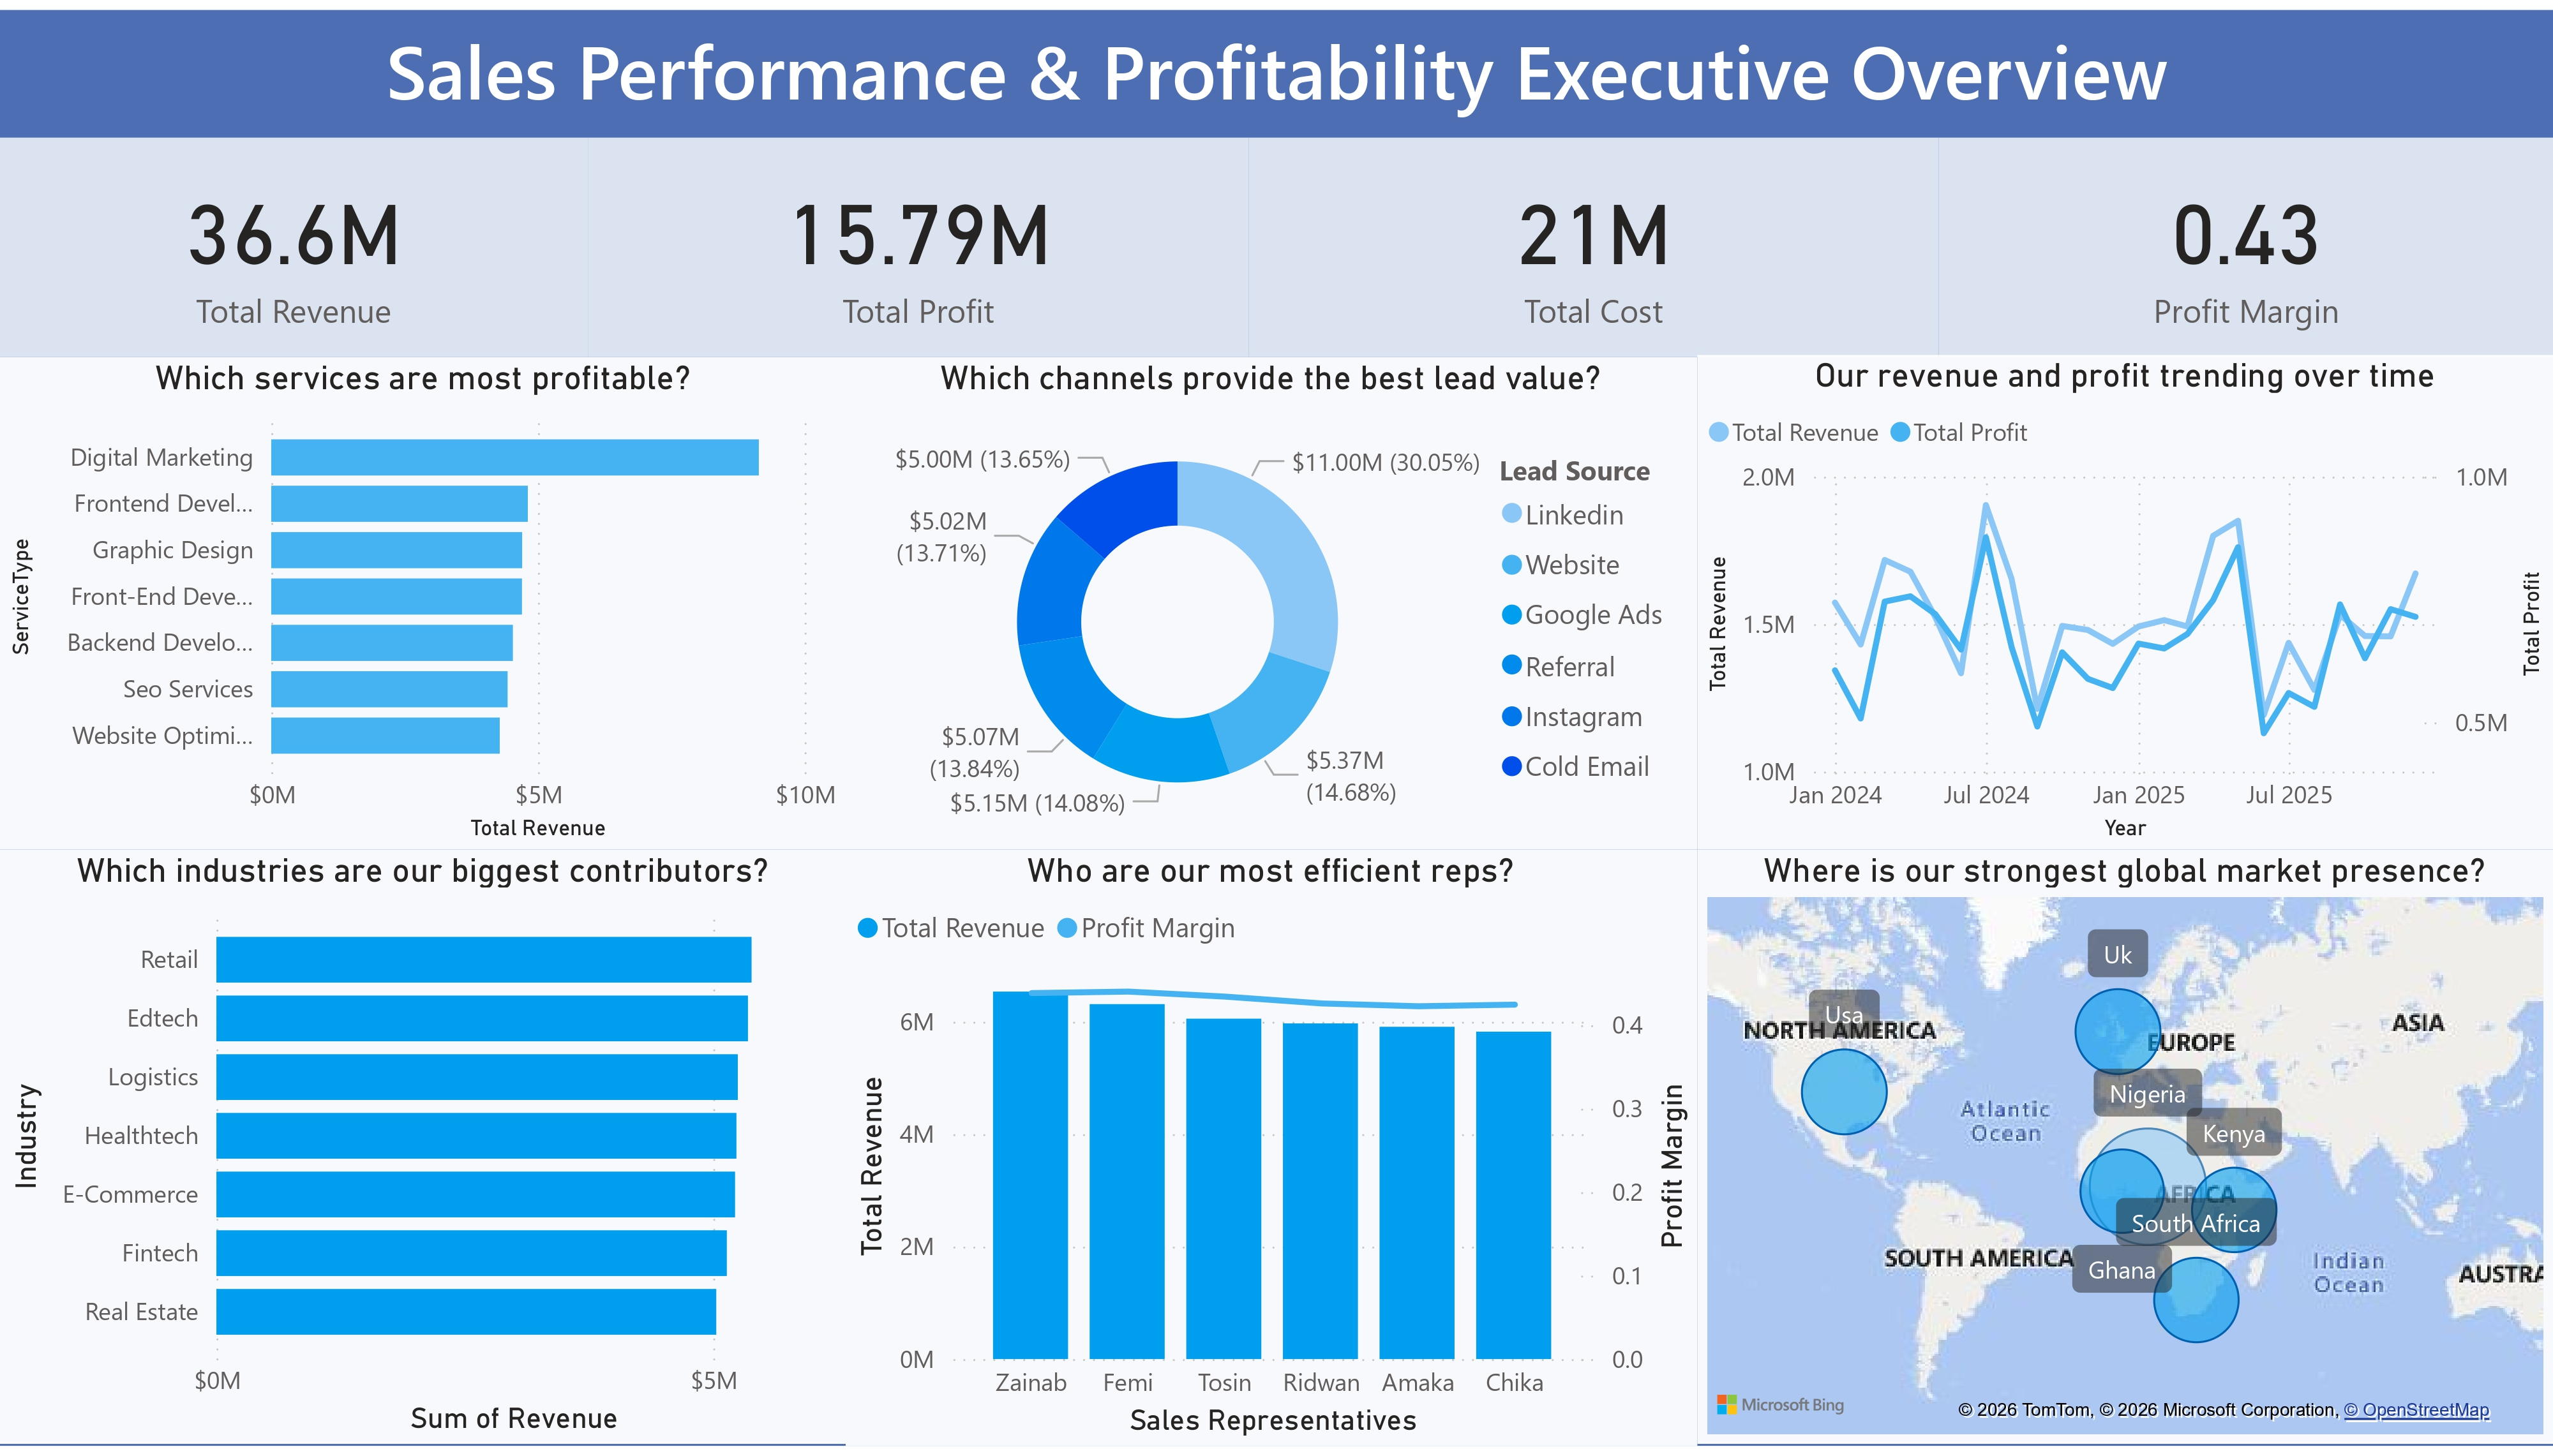

Layout of this report page (visuals, bound fields, positions):
{"tool":"powerbi","page":{"name":"Spacett_Sales_Dashboard","canvas":[1280,720],"ordinal":0},"visuals":[{"type":"clusteredBarChart","title":"Which services are most profitable?","fields":{"Y":["Sum(SpaceTT_Sales.Revenue)"],"Category":["SpaceTT_Sales.ServiceType"]},"box":[0,174.2,424.4,246.7],"z":0},{"type":"donutChart","title":"Which channels provide the best lead value?","fields":{"Category":["SpaceTT_Sales.LeadSource"],"Y":["Sum(SpaceTT_Sales.Revenue)"]},"box":[424.4,174.2,426.7,246.7],"z":1000},{"type":"card","fields":{"Values":["SpaceTT_Sales.Total Revenue"]},"box":[0,64.3,294.6,109.9],"z":2000},{"type":"card","fields":{"Values":["SpaceTT_Sales.Total Profit"]},"box":[294.6,64.3,330.9,109.9],"z":3000},{"type":"card","fields":{"Values":["SpaceTT_Sales.Total Cost"]},"box":[625.5,64.3,346.1,109.9],"z":4000},{"type":"card","fields":{"Values":["SpaceTT_Sales.Profit Margin"]},"box":[971.6,64.3,308.7,109.9],"z":5000},{"type":"map","title":"Where is our strongest global market presence?","fields":{"Category":["SpaceTT_Sales.ClientRegion"],"Size":["Sum(SpaceTT_Sales.Revenue)"]},"box":[851.2,420.9,429.1,298.1],"z":6000},{"type":"barChart","title":"Which industries are our biggest contributors?","fields":{"Y":["Sum(SpaceTT_Sales.Revenue)"],"Category":["SpaceTT_Sales.Industry"]},"box":[0,420.9,424.4,298.1],"z":7000},{"type":"lineClusteredColumnComboChart","title":"Who are our most efficient reps?","fields":{"Category":["SpaceTT_Sales.SalesRep"],"Y":["SpaceTT_Sales.Total Revenue"],"Y2":["SpaceTT_Sales.Profit Margin"]},"box":[424.4,420.9,426.7,299.3],"z":8000},{"type":"lineChart","title":"Our revenue and profit trending over time","fields":{"Y":["SpaceTT_Sales.Total Revenue"],"Y2":["SpaceTT_Sales.Total Profit"],"Category":["SpaceTT_Sales.Date.Variation.Date Hierarchy.Year","SpaceTT_Sales.Date.Variation.Date Hierarchy.Month"]},"box":[851.2,173,429.1,247.9],"z":9000},{"type":"textbox","box":[0,0,1280.2,64.3],"z":10000}]}

Visuals, with their boxes in screenshot pixels (x1, y1, x2, y2), scaled from the page's 1280x720 canvas onto the 2553x1456 screenshot:
"Which services are most profitable?" clusteredBarChart: box=[0, 352, 846, 851]
"Which channels provide the best lead value?" donutChart: box=[846, 352, 1698, 851]
card - SpaceTT_Sales.Total Revenue: box=[0, 130, 588, 352]
card - SpaceTT_Sales.Total Profit: box=[588, 130, 1248, 352]
card - SpaceTT_Sales.Total Cost: box=[1248, 130, 1938, 352]
card - SpaceTT_Sales.Profit Margin: box=[1938, 130, 2552, 352]
"Where is our strongest global market presence?" map: box=[1698, 851, 2552, 1454]
"Which industries are our biggest contributors?" barChart: box=[0, 851, 846, 1454]
"Who are our most efficient reps?" lineClusteredColumnComboChart: box=[846, 851, 1698, 1455]
"Our revenue and profit trending over time" lineChart: box=[1698, 350, 2552, 851]
textbox: box=[0, 0, 2552, 130]
